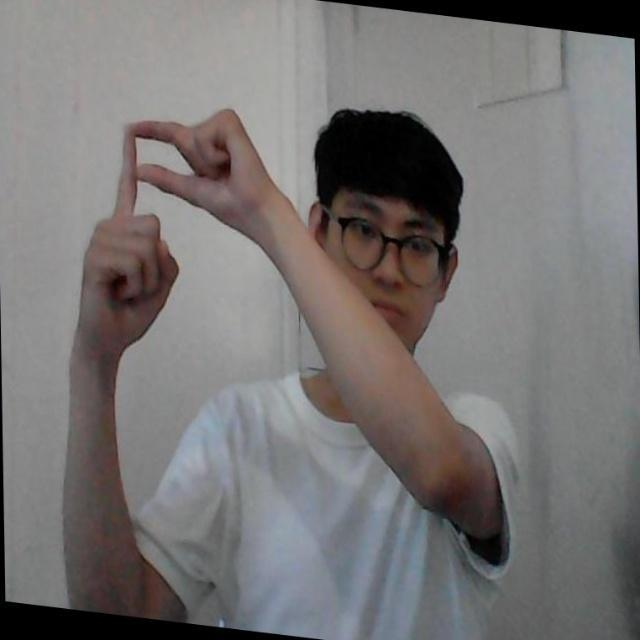P: (92, 99, 246, 315)
